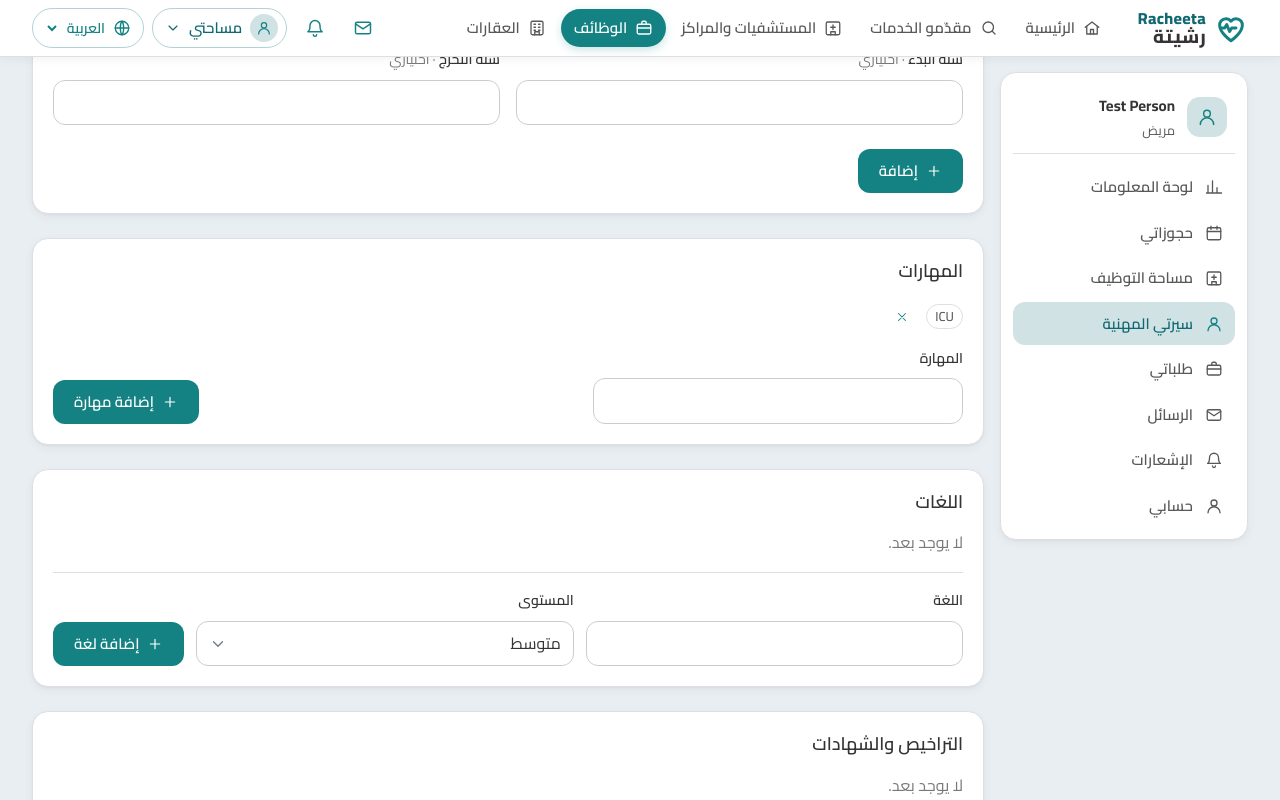
SeekerProfilePage › adds a skill to an existing profile and reloads the list
(page scrolled)
Expected: the number of elements with test id "skill-chip" is 1, [882,299,963,335]
Type "ECG" into the field labelled "المهارة".
click(778, 401); type("ECG")  # box [593,378,963,424]
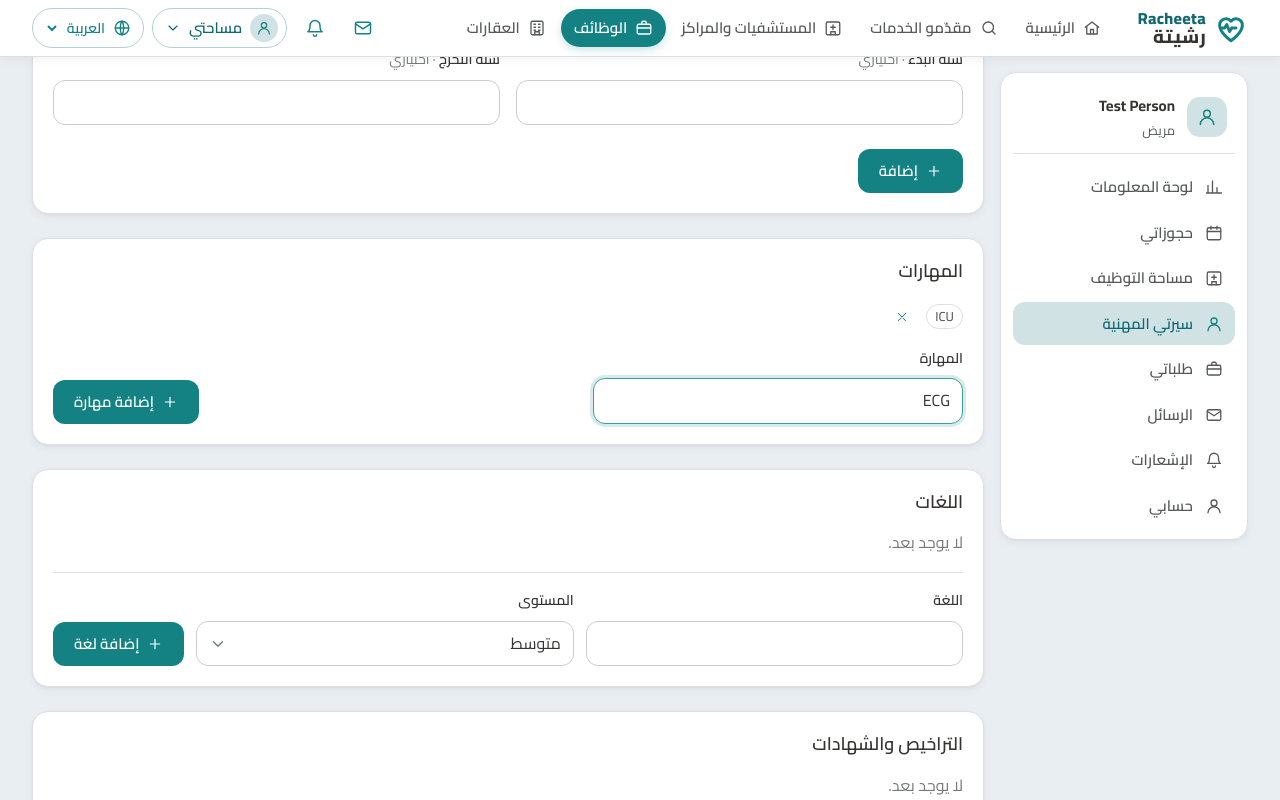
Click the button "إضافة مهارة".
click(126, 402)  # box [53,380,199,424]
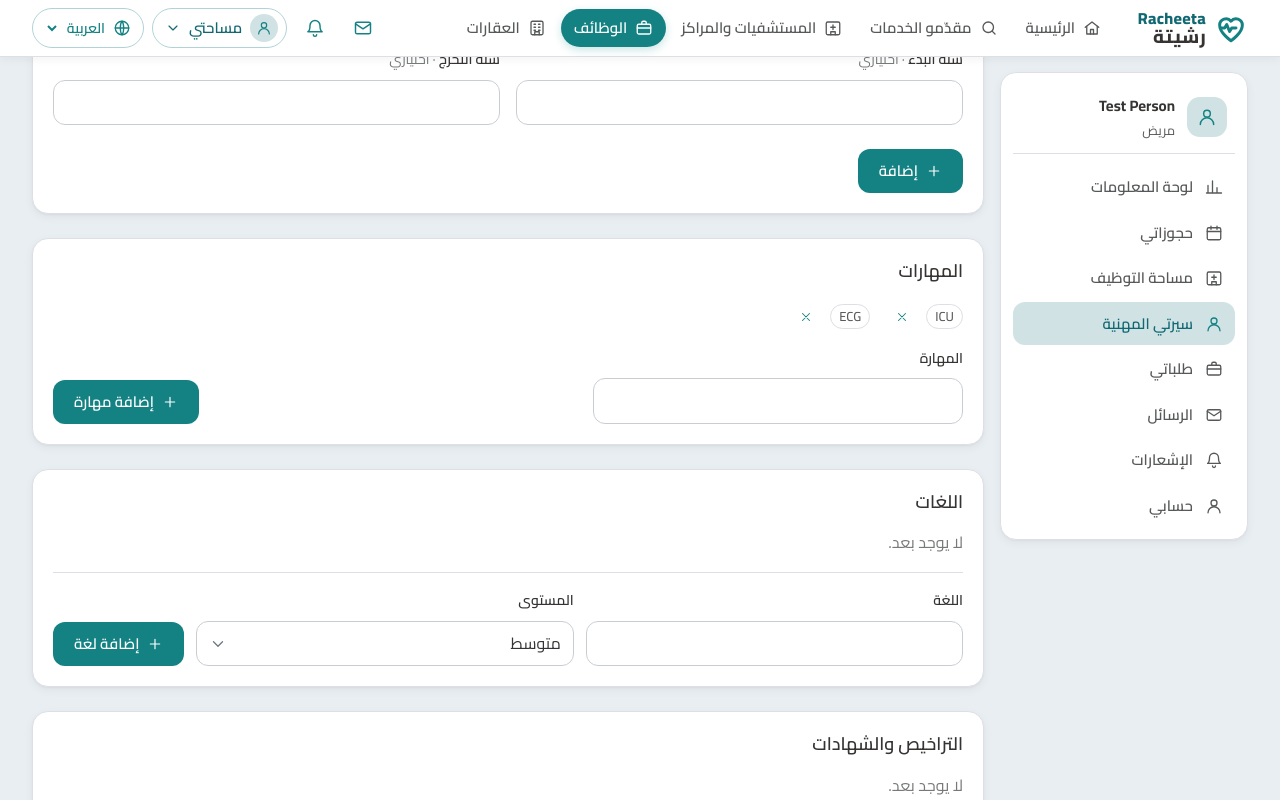
Expected: the number of elements with test id "skill-chip" is 2, [882,299,963,335]; [786,299,870,335]
